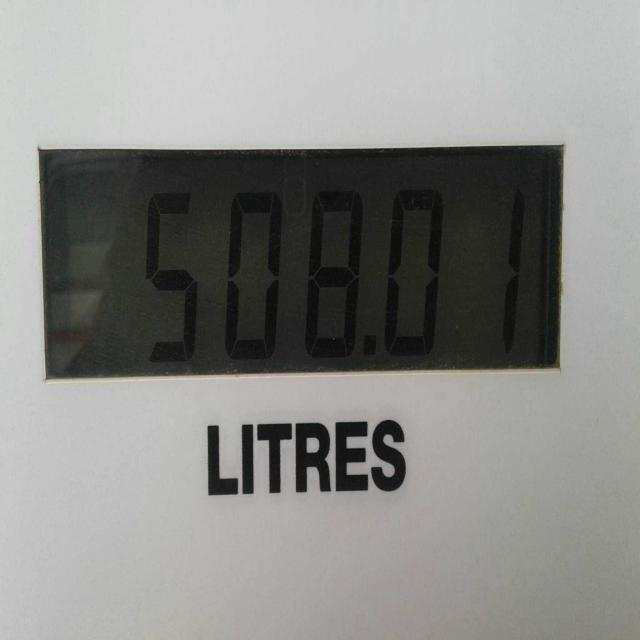.: (350, 319, 391, 369)
0: (372, 166, 456, 379), (212, 177, 289, 354), (484, 183, 532, 365)
5: (125, 191, 210, 368)
8: (292, 163, 365, 360)
